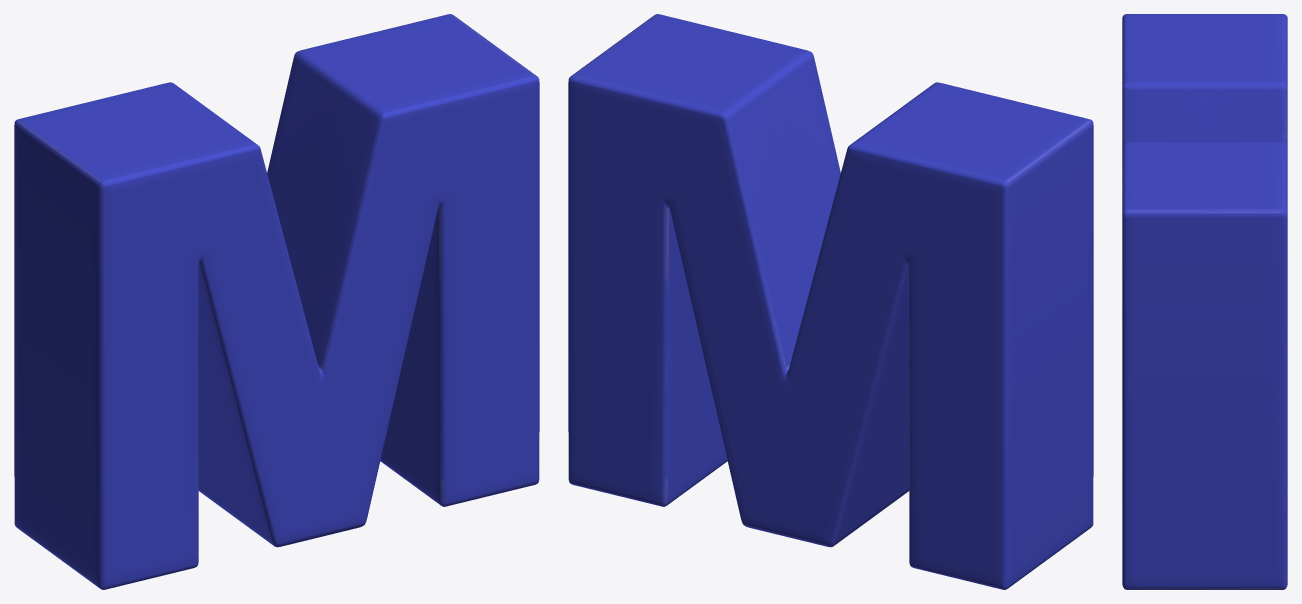
The model's file is email.glb.
The picture shows the model from 3 angles, left to right: view 1: azimuth 30°, elevation 25°; view 2: azimuth 150°, elevation 25°; view 3: azimuth 270°, elevation 25°; orthographic projection. The views are drawn at different scales.
Visible parts, largest first — view 1: node_id104; view 2: node_id104; view 3: node_id104.
Boxes of the visible parts, x1=… form: node_id104: x1=14, y1=14, x2=539, y2=589; node_id104: x1=568, y1=14, x2=1093, y2=589; node_id104: x1=1122, y1=14, x2=1287, y2=589.
Size of the model in its own units: 0.512 by 0.4546 by 0.1794.
1 material, 1 textured.
